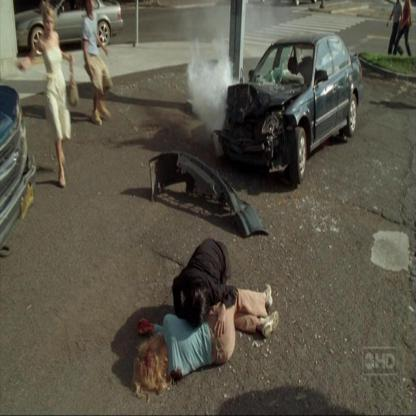face: (46, 17, 54, 36), (88, 1, 94, 13)
